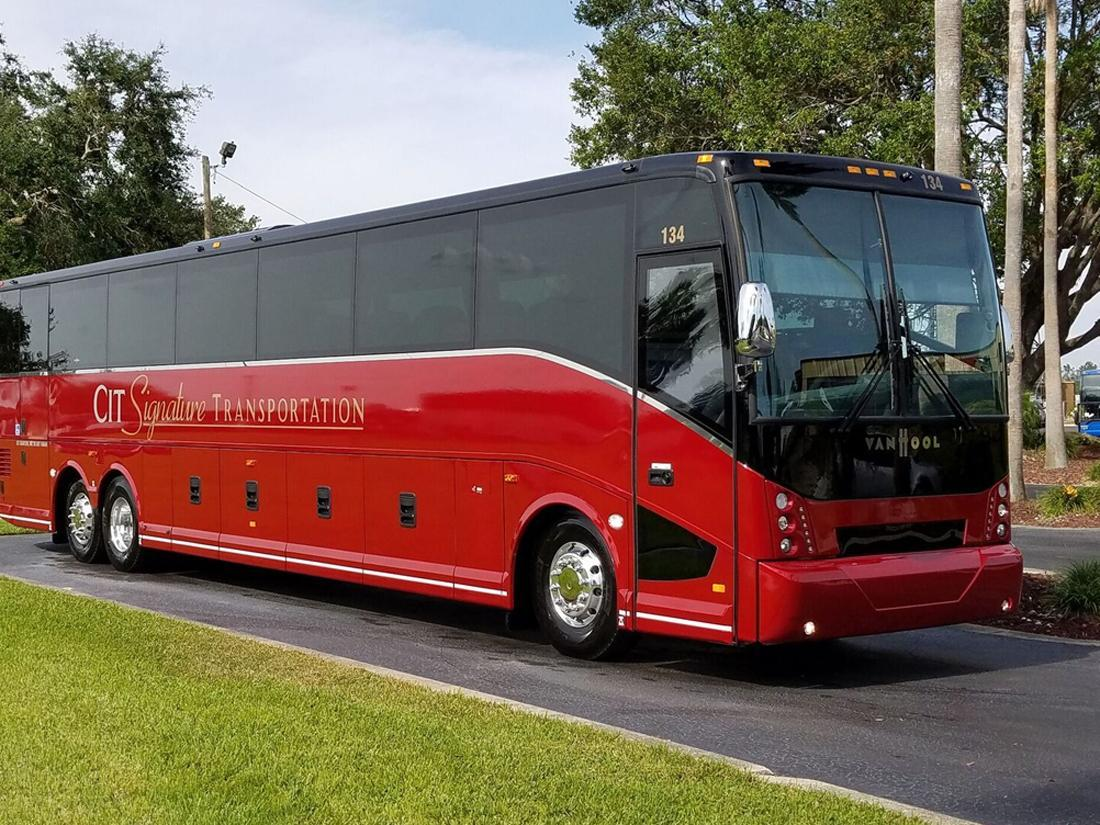Bus: (0, 150, 1027, 662)
